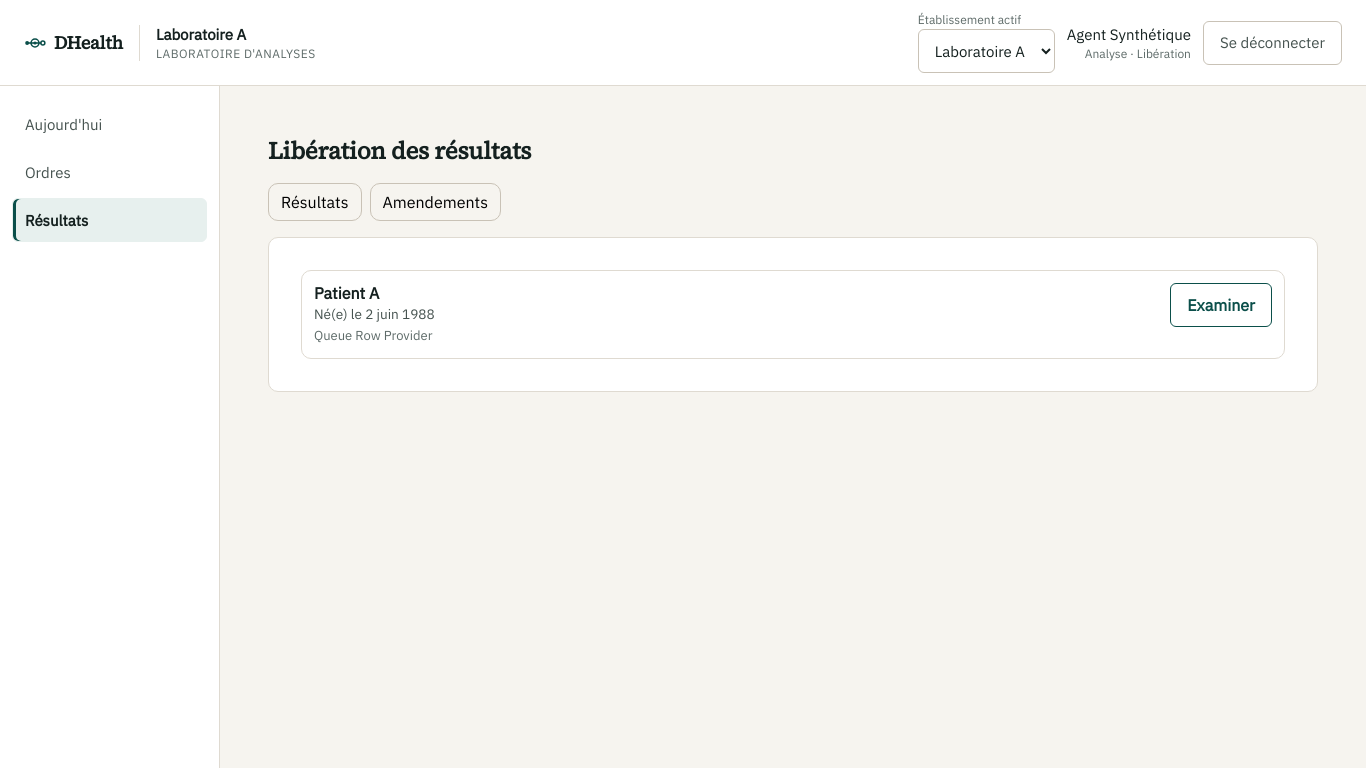
LabReleasePage › RQ4: cross-lab queue isolation -- switching labs clears the previous lab panel
Click the button "Examiner" at (1221, 305), box [1170,283,1272,327]
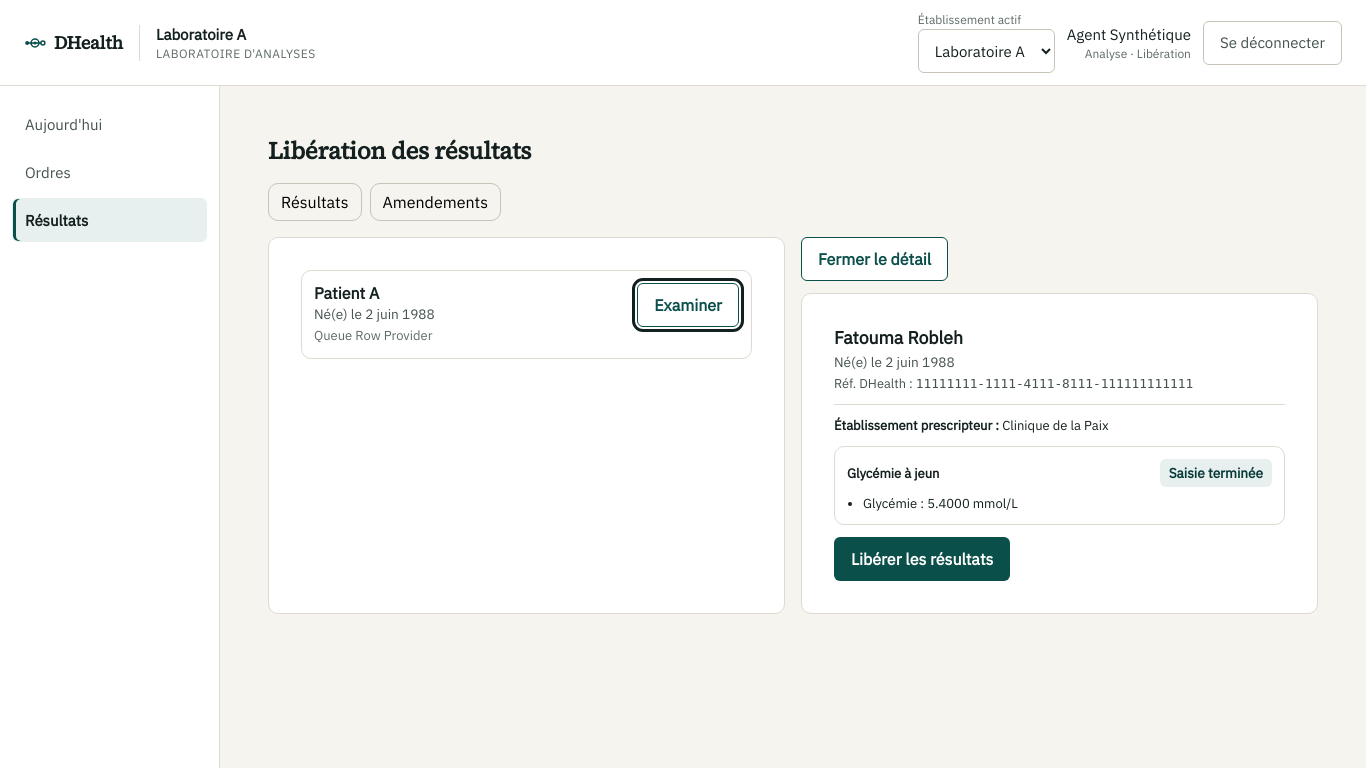
Result: the text "Clinique de la Paix" is shown at [1002,417,1109,434]
Select "Laboratoire B" in the dropdown labelled "Établissement actif" at (986, 51), box [918,29,1055,73]
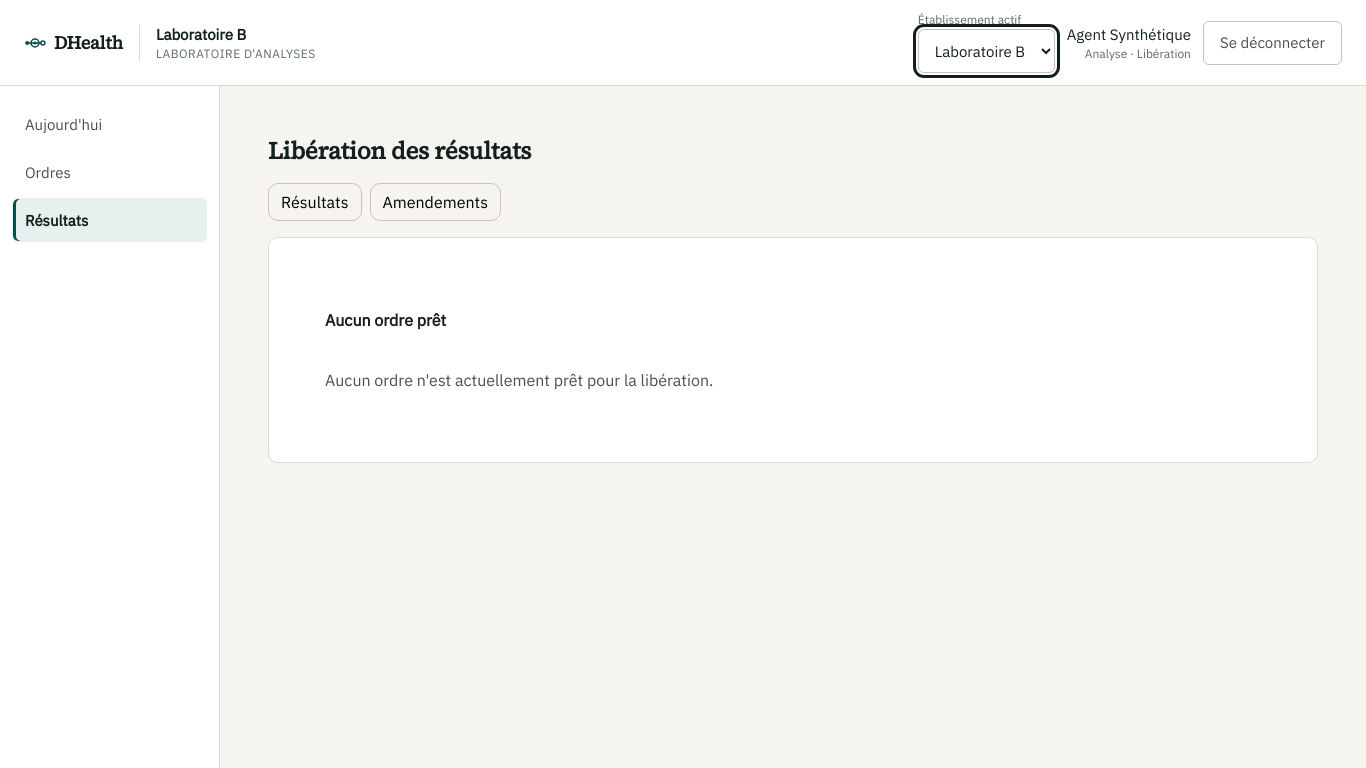
Result: the text "Clinique de la Paix" is gone
Result: the text "Aucun ordre prêt" is shown at [325,310,446,330]
